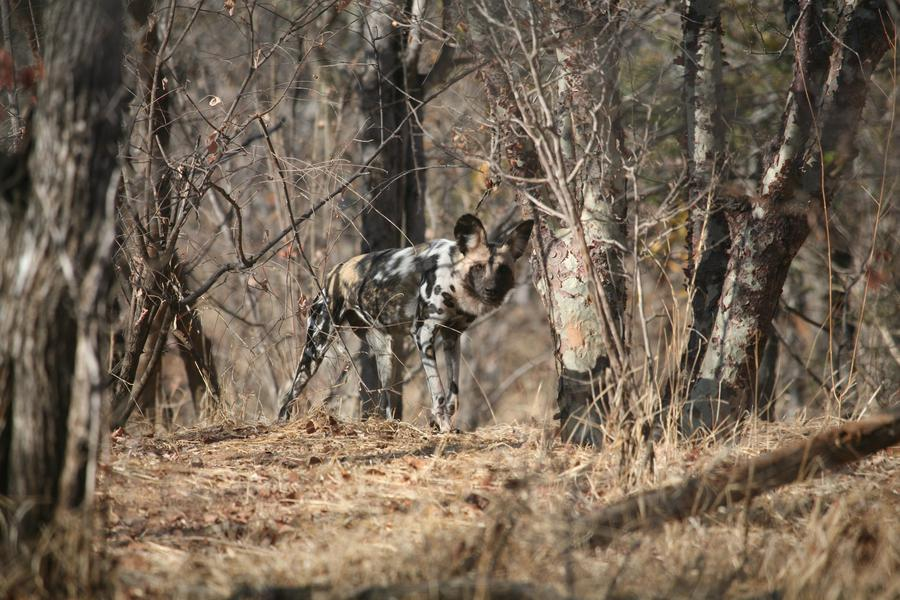wilddog: (271, 220, 527, 420)
